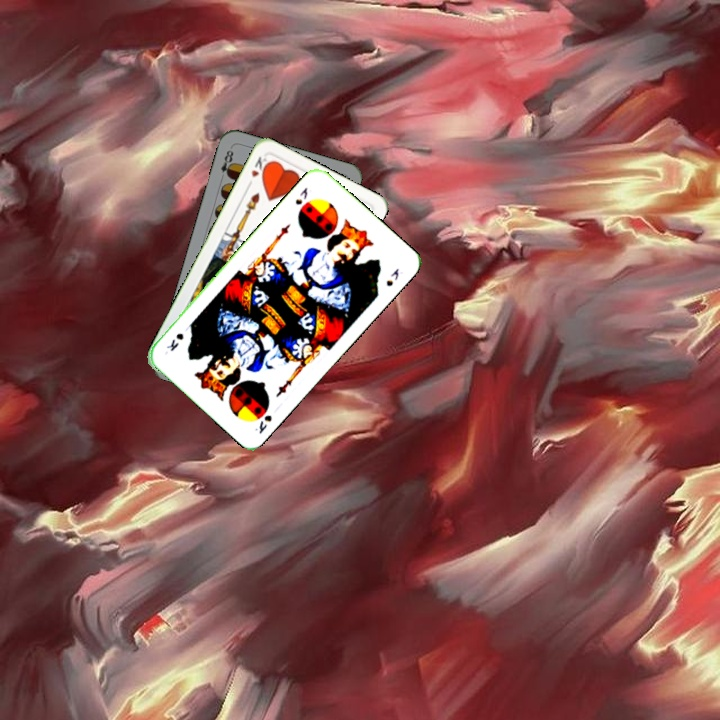E8: (216, 144, 236, 183)
HK: (243, 152, 272, 190)
SK: (251, 411, 275, 437), (291, 183, 310, 208)
